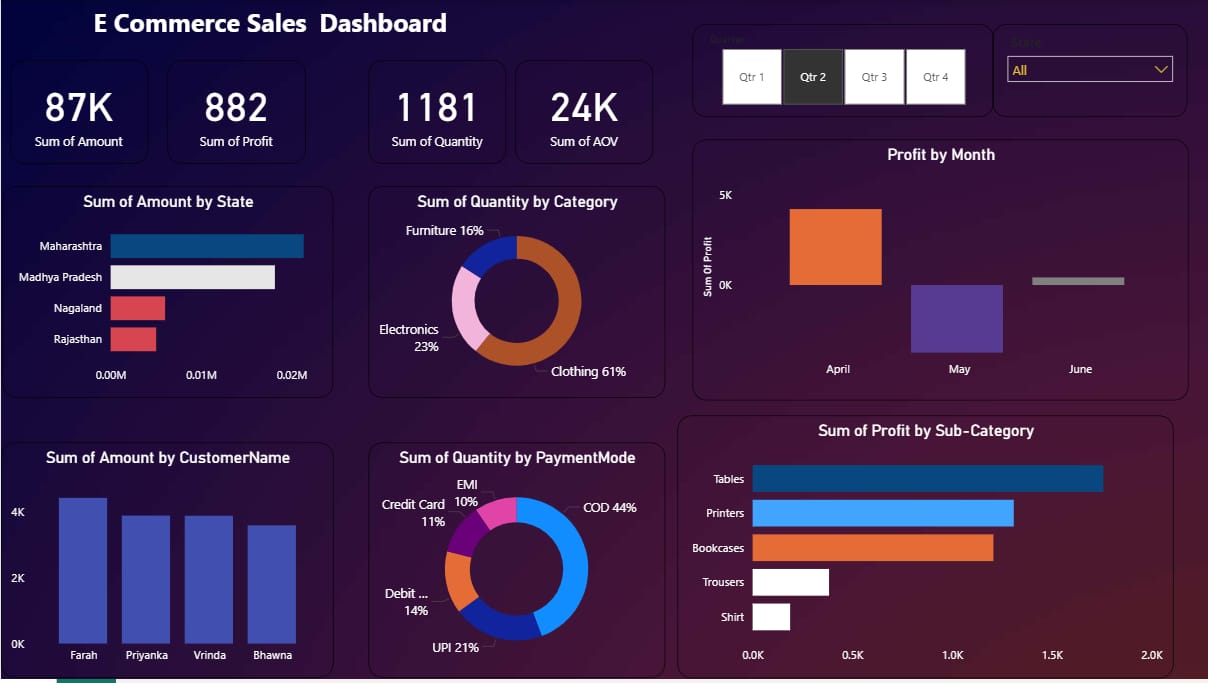

What the dashboard file says about the page in this screenshot:
{"tool":"powerbi","page":{"name":"Page 1","canvas":[1280,720],"ordinal":0},"visuals":[{"type":"textbox","box":[9.5,0,537.6,47.7],"z":0},{"type":"columnChart","title":"Profit by Month","fields":{"Category":["orders csv.Order Date.Variation.Date Hierarchy.Month"],"Y":["details csv.Profit"]},"box":[732.9,148.4,526.1,276.5],"z":1000},{"type":"barChart","fields":{"Category":["details csv.Sub-Category"],"Y":["details csv.Profit"]},"box":[717.2,440.7,526.1,278.8],"z":2000},{"type":"donutChart","fields":{"Y":["details csv.Quantity"],"Category":["details csv.PaymentMode"]},"box":[388.9,469.9,314.8,249.6],"z":3000},{"type":"donutChart","fields":{"Category":["details csv.Category"],"Y":["details csv.Quantity"]},"box":[388.9,197.8,314.8,224.8],"z":4000},{"type":"card","fields":{"Values":["details csv.Amount"]},"box":[9.5,63.6,146.3,109.8],"z":5000},{"type":"card","fields":{"Values":["details csv.Profit"]},"box":[176.6,63.6,146.3,109.8],"z":6000},{"type":"card","fields":{"Values":["details csv.Quantity"]},"box":[388.9,63,146.1,110.2],"z":7000},{"type":"card","fields":{"Values":["details csv.AOV"]},"box":[546.3,63,146.1,110.2],"z":8000},{"type":"barChart","fields":{"Category":["orders csv.State"],"Y":["details csv.Amount"]},"box":[2.2,197.8,350.7,224.8],"z":10000},{"type":"columnChart","fields":{"Category":["orders csv.CustomerName"],"Y":["details csv.Amount"]},"box":[0,469.9,353,249.6],"z":11000},{"type":"slicer","fields":{"Values":["orders csv.Order Date.Variation.Date Hierarchy.Quarter"]},"box":[732.9,24.7,319.3,98.9],"z":12000},{"type":"slicer","fields":{"Values":["orders csv.State"]},"box":[1052.2,24.7,206.8,98.9],"z":13000}]}

Visuals, with their boxes in screenshot pixels (x1, y1, x2, y2), scaled from the page's 1280x720 canvas onto the 1208x683 screenshot:
textbox: <region>9, 0, 516, 45</region>
"Profit by Month" columnChart: <region>692, 141, 1188, 403</region>
barChart - details csv.Sub-Category x details csv.Profit: <region>677, 418, 1173, 682</region>
donutChart - details csv.Quantity x details csv.PaymentMode: <region>367, 446, 664, 682</region>
donutChart - details csv.Category x details csv.Quantity: <region>367, 188, 664, 401</region>
card - details csv.Amount: <region>9, 60, 147, 164</region>
card - details csv.Profit: <region>167, 60, 305, 164</region>
card - details csv.Quantity: <region>367, 60, 505, 164</region>
card - details csv.AOV: <region>516, 60, 653, 164</region>
barChart - orders csv.State x details csv.Amount: <region>2, 188, 333, 401</region>
columnChart - orders csv.CustomerName x details csv.Amount: <region>0, 446, 333, 682</region>
slicer - orders csv.Order Date.Variation.Date Hierarchy.Quarter: <region>692, 23, 993, 117</region>
slicer - orders csv.State: <region>993, 23, 1188, 117</region>
